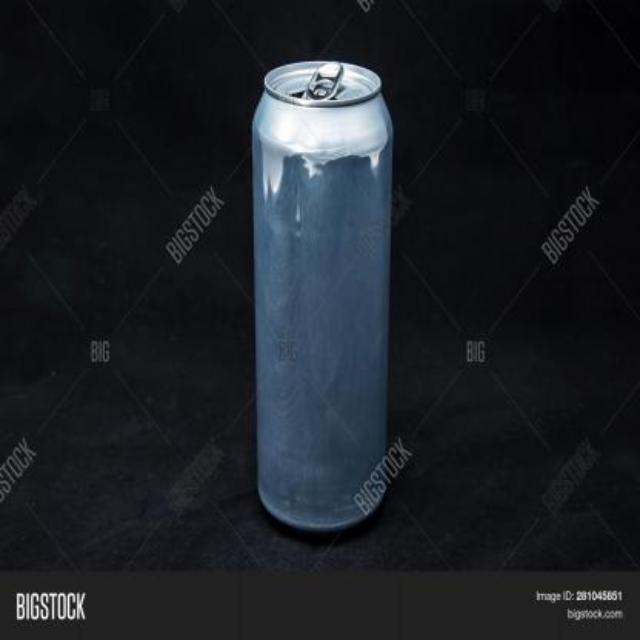metal: (251, 60, 389, 529)
